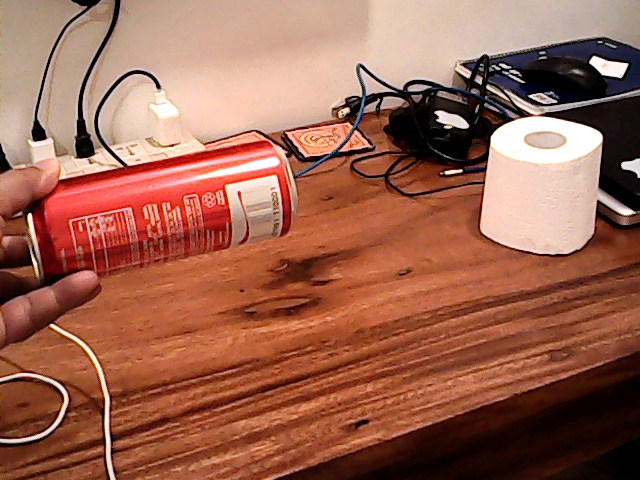Cola: (21, 132, 316, 289)
